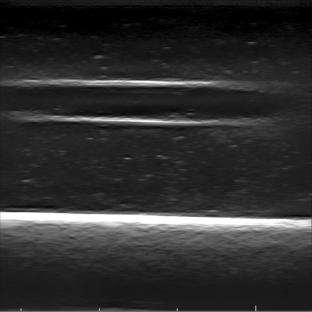vessel: (4, 78, 286, 128)
